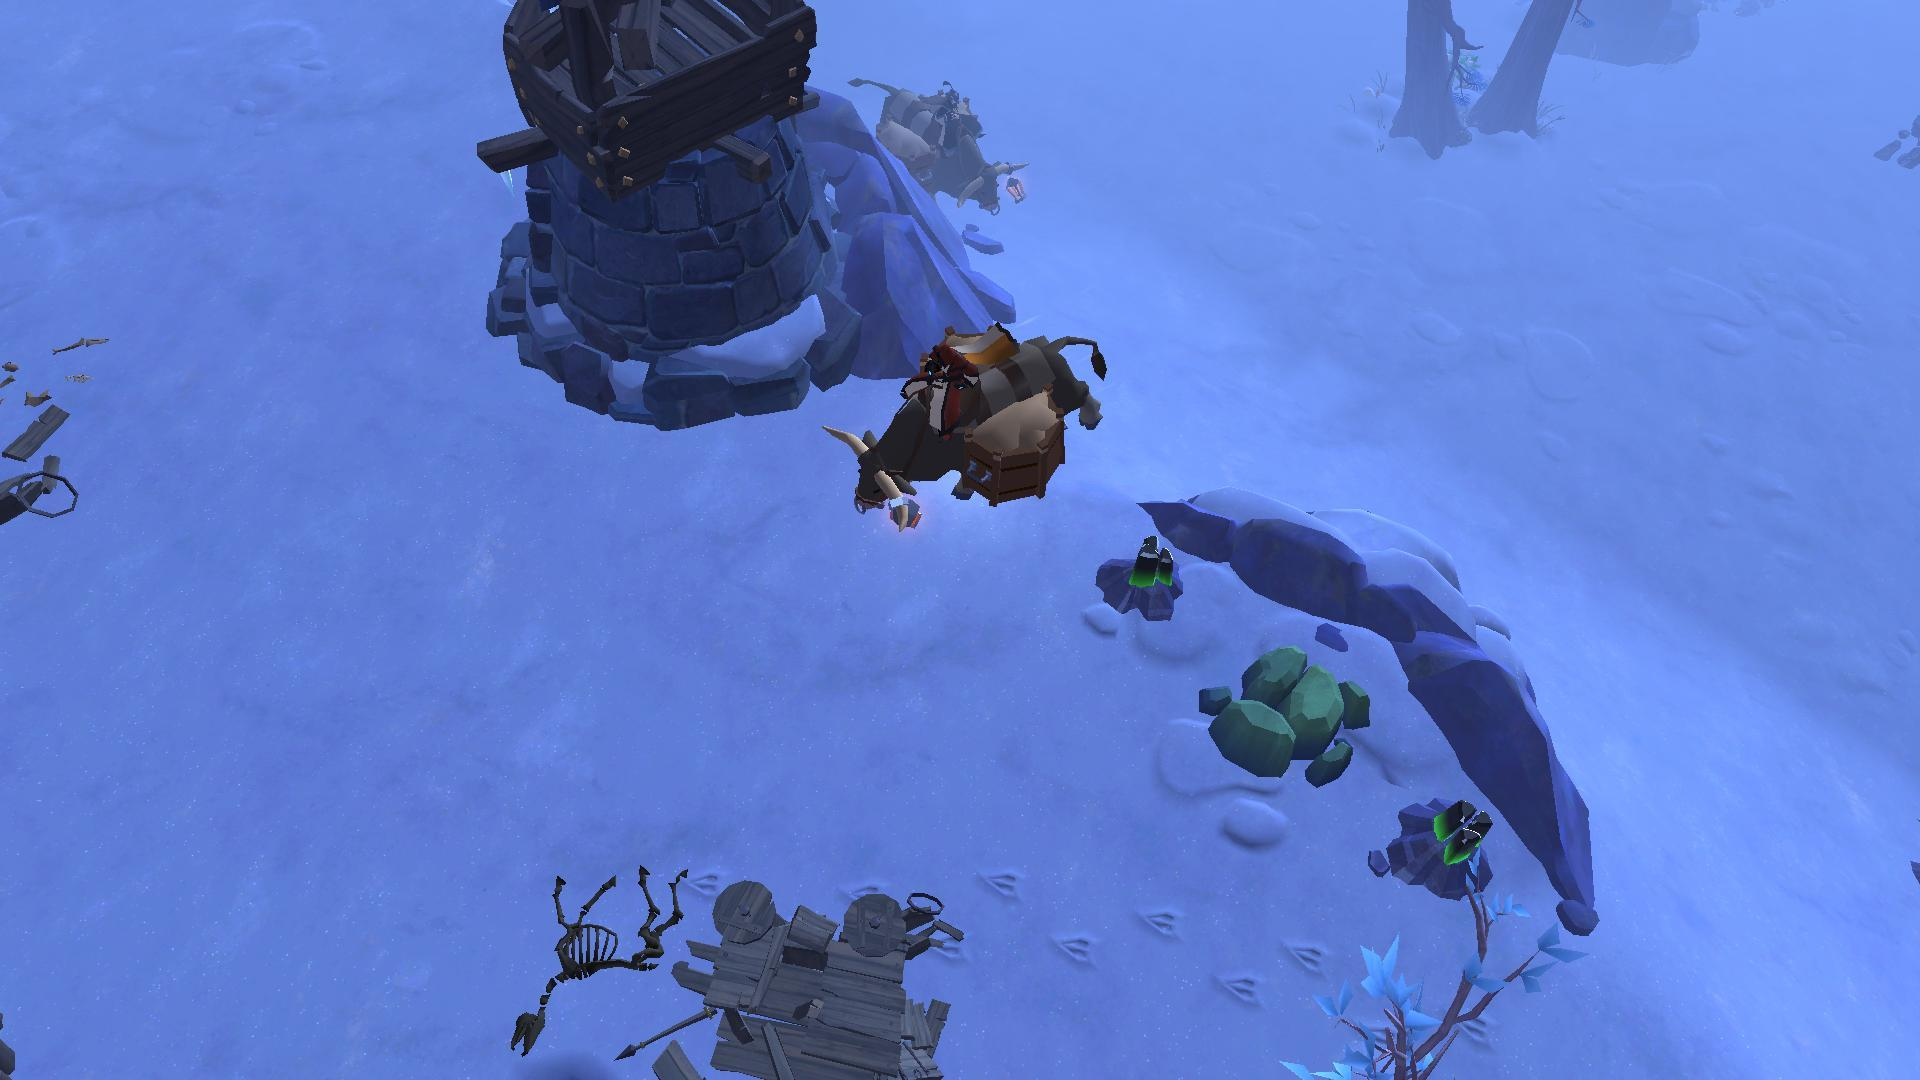ore_t3: (1427, 794, 1498, 874), (1125, 531, 1179, 595)
rock_t3: (1212, 633, 1364, 789)
